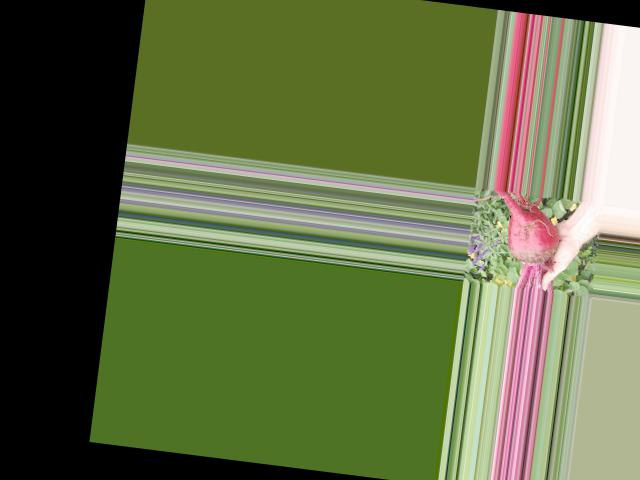beet: (483, 189, 564, 292)
